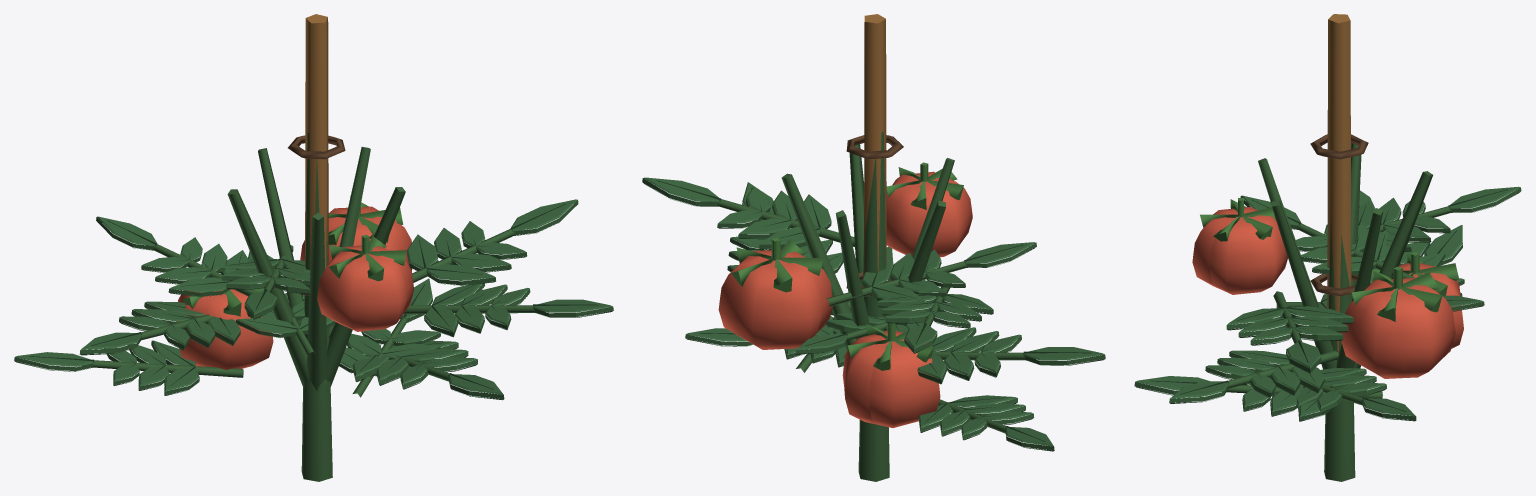
Rendered from tomato.m1.glb.
The picture shows the model from 3 angles, left to right: view 1: azimuth 30°, elevation 25°; view 2: azimuth 150°, elevation 25°; view 3: azimuth 270°, elevation 25°; orthographic projection.
Visible parts, largest first — view 1: cropLeafInstances, cropStemInstances, cropFruitInstances, cropSupportInstances; view 2: cropLeafInstances, cropFruitInstances, cropStemInstances, cropSupportInstances; view 3: cropLeafInstances, cropFruitInstances, cropStemInstances, cropSupportInstances.
Boxes of the visible parts, x1,y1,x2,y2 form: cropLeafInstances: (14,199,613,400); cropStemInstances: (227,131,405,481); cropFruitInstances: (176,196,414,369); cropSupportInstances: (288,14,345,382); cropLeafInstances: (642,177,1105,451); cropFruitInstances: (718,162,972,427); cropStemInstances: (781,131,954,481); cropSupportInstances: (846,14,903,296); cropLeafInstances: (1134,186,1521,421); cropFruitInstances: (1192,198,1463,378); cropStemInstances: (1258,142,1432,481); cropSupportInstances: (1310,14,1368,352).
Size of what is drawn, in the model's own units: 1.66 by 1.48 by 1.14.
